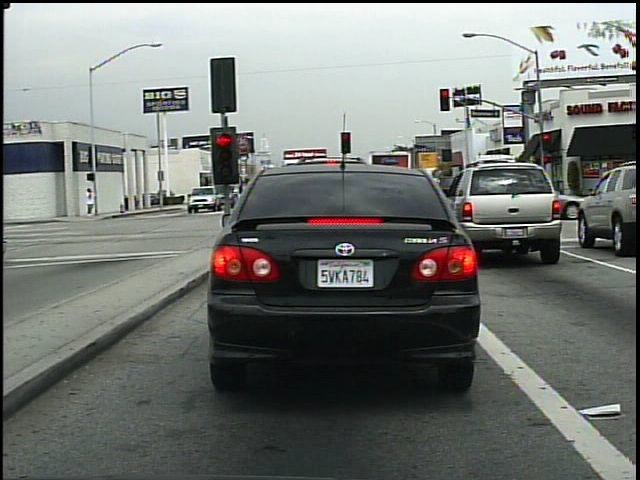person: (83, 186, 96, 219)
